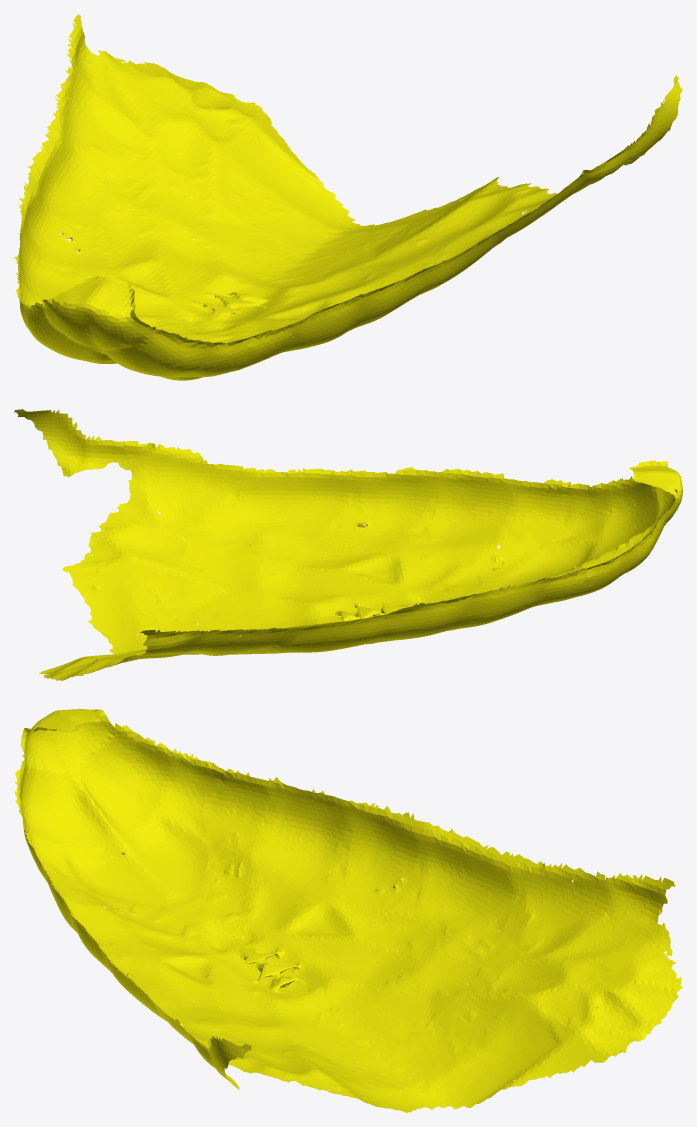
Rendered from zone2-serpent-yellow.gltf.
3 views of the same model, one above another, from view 1: azimuth 30°, elevation 25°; view 2: azimuth 150°, elevation 25°; view 3: azimuth 270°, elevation 25° (orthographic). The views are drawn at different scales.
Visible parts, largest first — view 1: imagetostl_mesh; view 2: imagetostl_mesh; view 3: imagetostl_mesh.
Part boxes in pixels (bbox=[...]): imagetostl_mesh: bbox=[14, 14, 682, 380]; imagetostl_mesh: bbox=[14, 409, 682, 680]; imagetostl_mesh: bbox=[14, 709, 682, 1112].
Size of the model in its own units: 13.55 by 3.47 by 11.58.
